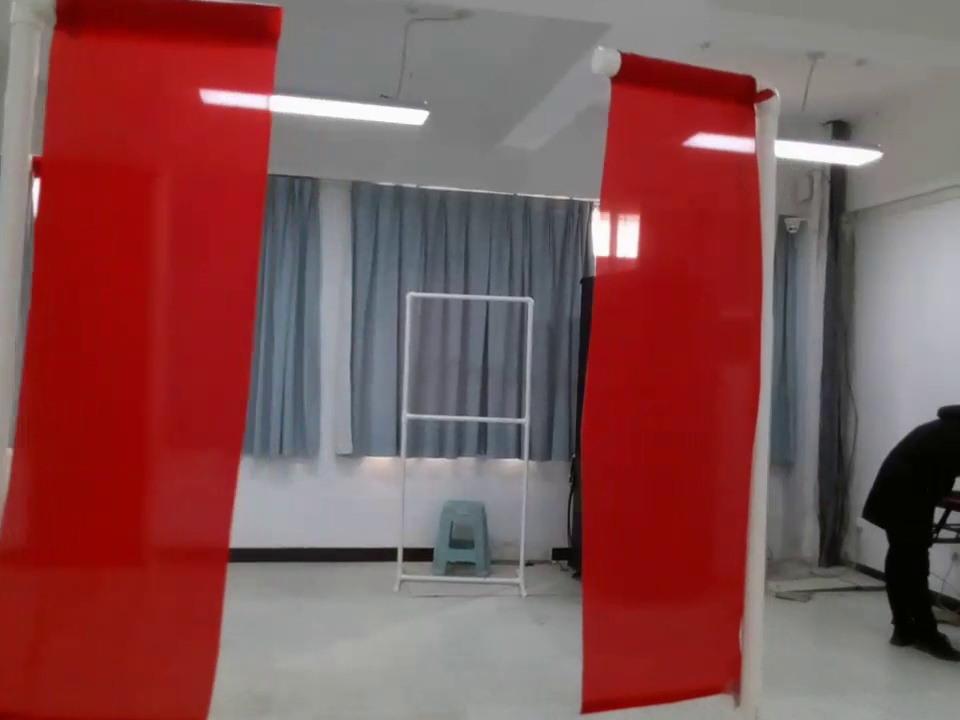qi: (3, 2, 296, 720), (572, 41, 789, 711)
